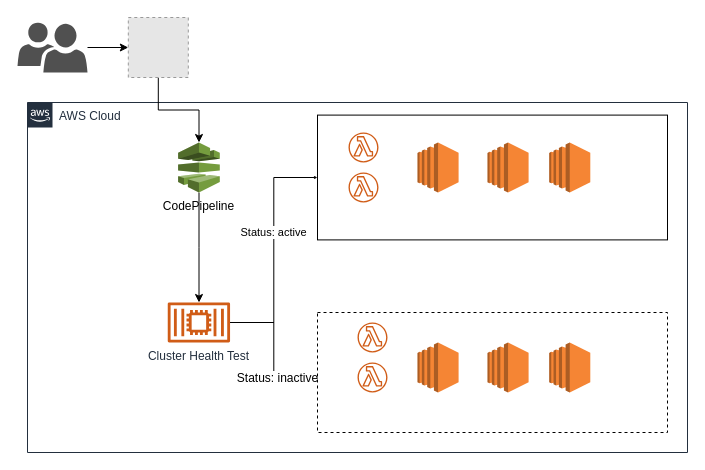
This 705x470 diagram has some shape labels left out. Grey dashed boxes stand in for pictures. Here are the shapes that lost their labels. From the top down, the box of each, then its label:
(316, 114, 668, 240): ACTIVE // Deflationary
(316, 312, 668, 432): INACTIVE // Deflationary
